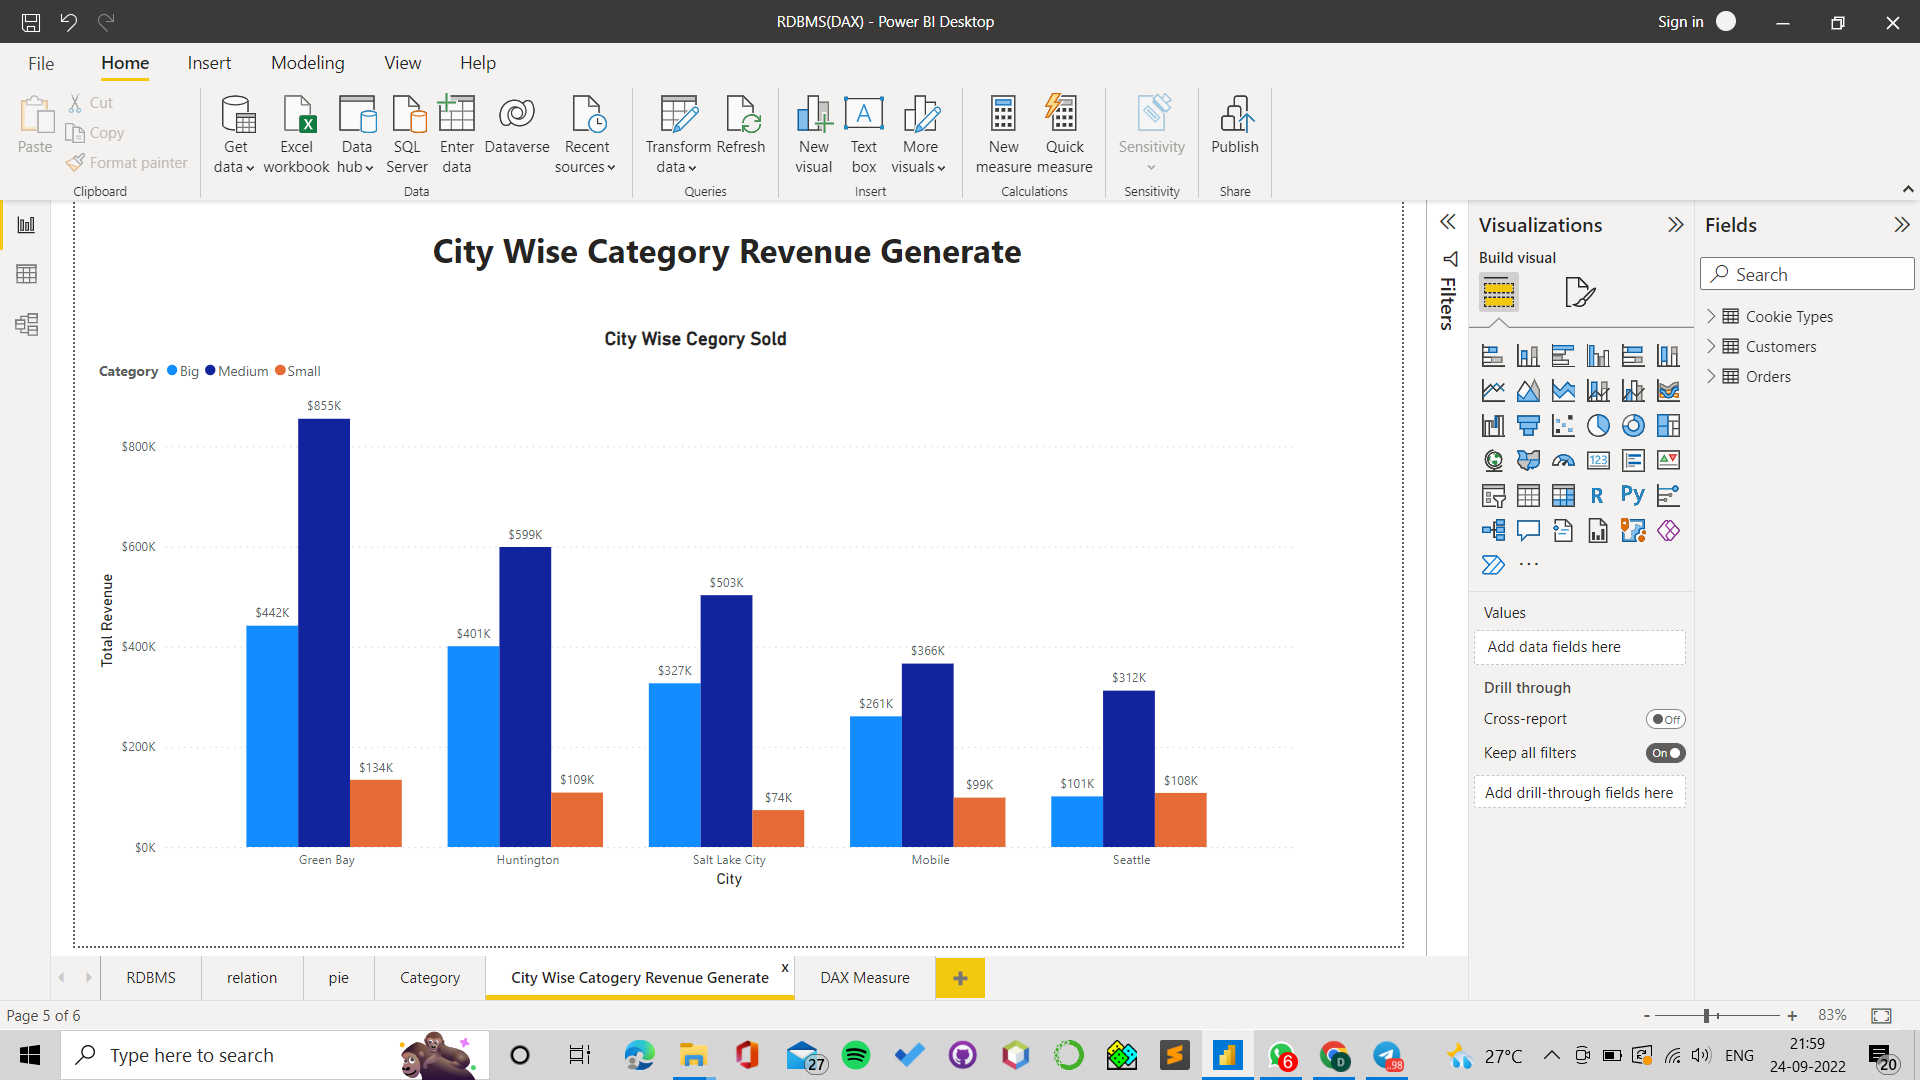

This screenshot's page, from the dashboard's own definition file:
{"tool":"powerbi","page":{"name":"City Wise Catogery Revenue Generate","canvas":[1280,720],"ordinal":4},"visuals":[{"type":"clusteredColumnChart","title":"City Wise Cegory Sold","fields":{"Category":["Customers.City"],"Y":["Orders.Total Revenue"],"Series":["Orders.Category"]},"box":[17.9,123.6,1161.9,545.2],"z":0},{"type":"textbox","box":[156.6,22,944.9,101.6],"z":1000}]}

Visuals, with their boxes on the page's 1280x720 design canvas (x1, y1, x2, y2). These are canvas units, not pixel positions in the 1920x1080 screenshot, which may show the page scaled, cropped or inside an application window:
"City Wise Cegory Sold" clusteredColumnChart: locate(18, 124, 1180, 669)
textbox: locate(157, 22, 1102, 124)
